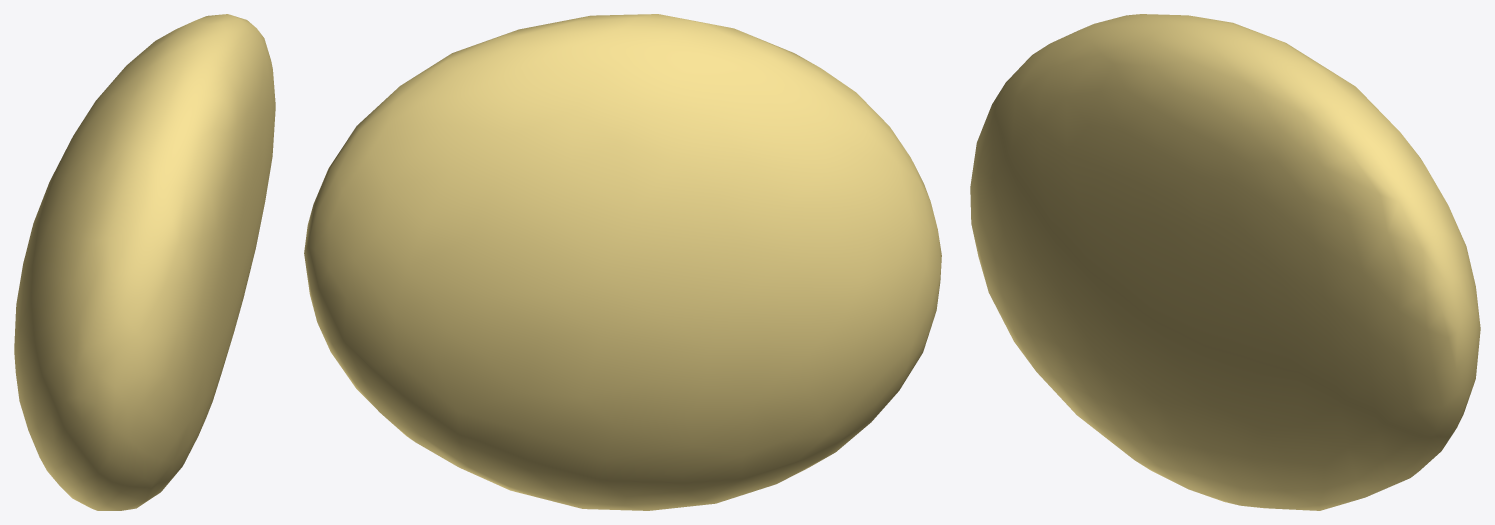
File: fma73504_mm3561.glb
The picture shows the model from 3 angles, left to right: view 1: azimuth 30°, elevation 25°; view 2: azimuth 150°, elevation 25°; view 3: azimuth 270°, elevation 25°; orthographic projection. The views are drawn at different scales.
Visible parts, largest first — view 1: FMA73504_MM3561; view 2: FMA73504_MM3561; view 3: FMA73504_MM3561.
Part boxes in pixels (<box>): FMA73504_MM3561: <box>14,14,275,510</box>; FMA73504_MM3561: <box>304,14,941,510</box>; FMA73504_MM3561: <box>970,14,1480,510</box>.
Size of the model in its own units: 0.0019 by 0.00196 by 0.00185.
